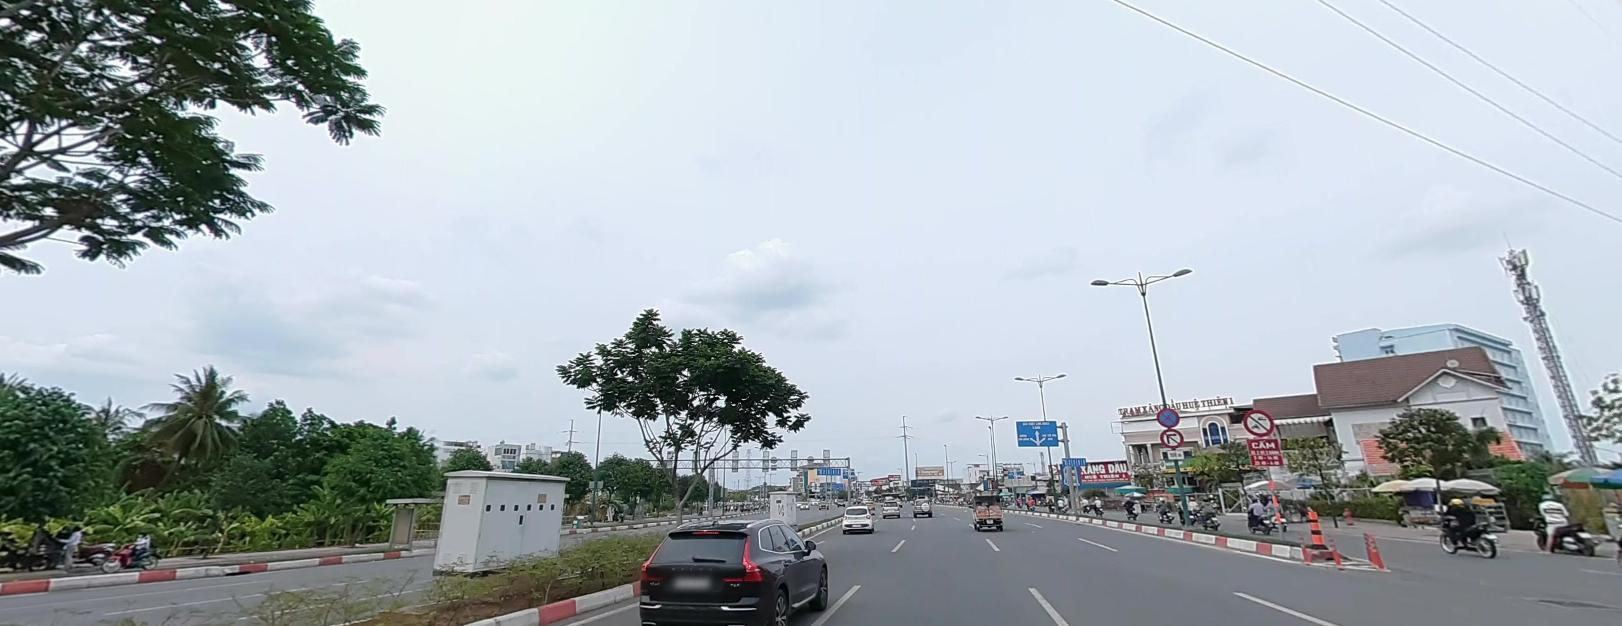Cam con lai: (1241, 407, 1274, 435)
Cam dung va do: (1157, 406, 1179, 425)
Cam re: (1158, 427, 1184, 447)
